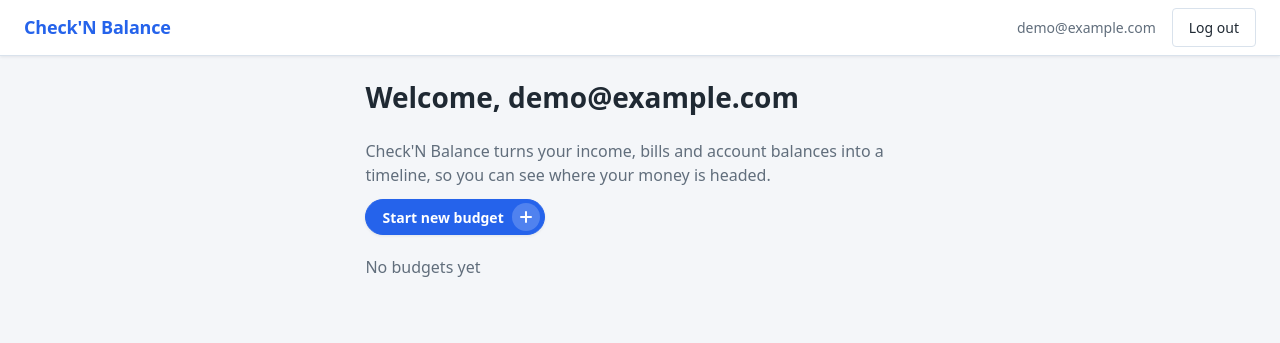
it: the "+" button › shows the error and stays on Home when the POST fails
Click the button "Start new budget" at (455, 217), box [365,199,545,235]
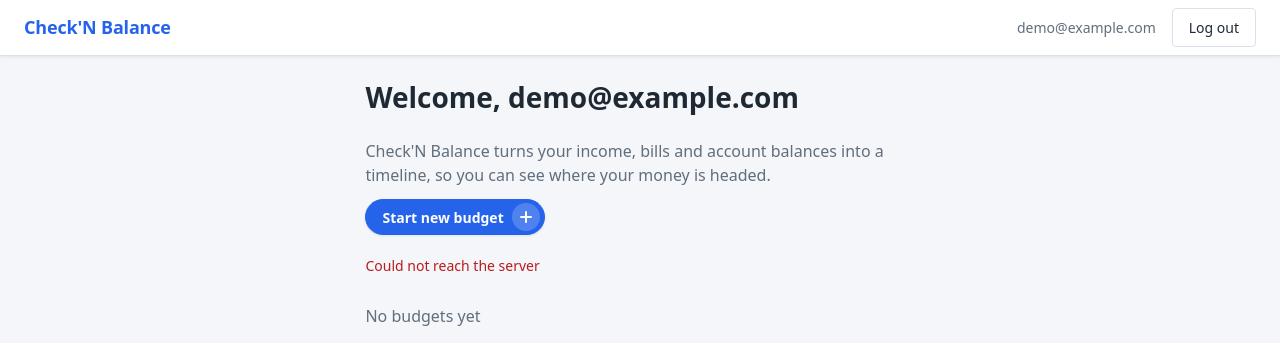
Expected: the heading "Welcome, demo@example.com" is shown, [365,80,799,115]
Expected: the message reads "Could not reach the server", [365,256,540,275]
